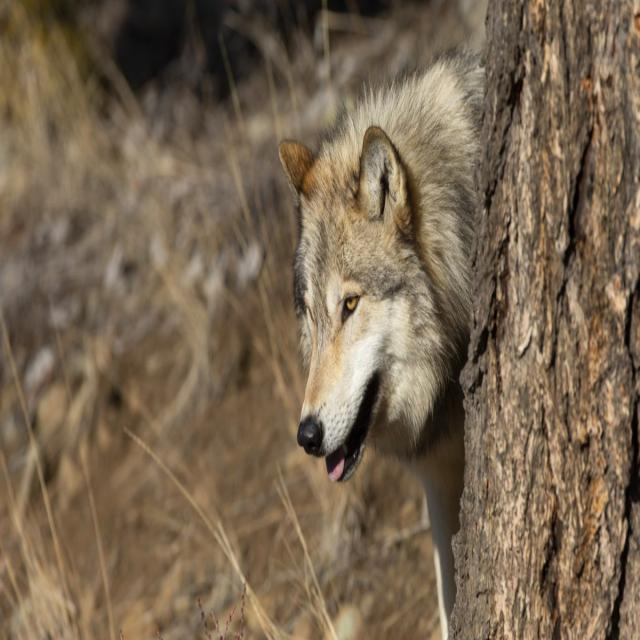Wolf: (277, 43, 485, 637)
